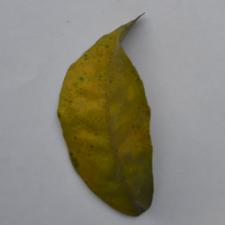Greening: (58, 21, 163, 217)
